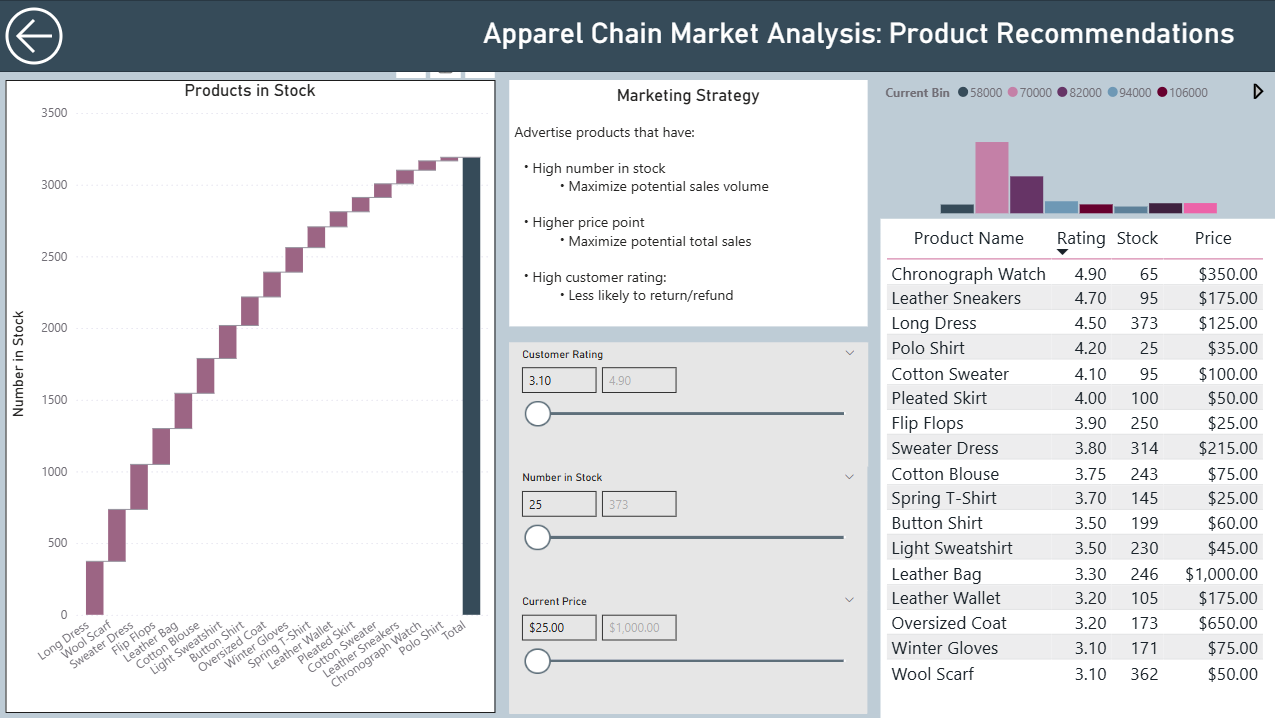

Layout of this report page (visuals, bound fields, positions):
{"tool":"powerbi","page":{"name":"Product Recommendation","canvas":[1280,720],"ordinal":6},"visuals":[{"type":"group","id":"g1","title":"Header","box":[0,0,1280,72],"z":0,"group":"g2"},{"type":"shape","box":[0,0,1280,72],"z":0,"group":"g1"},{"type":"tableEx","fields":{"Values":["Products.Product Name","Products.Customer Rating","Products.Number in Stock","Products.Current Price"]},"box":[883,219,397,501],"z":0},{"type":"slicer","fields":{"Values":["Products.Customer Rating"]},"box":[511,343,358,123.3],"z":0,"group":"g3"},{"type":"actionButton","title":"Back Button","box":[0,0,83,72],"z":1000,"group":"g2"},{"type":"textbox","box":[480,11,800,49],"z":1000,"group":"g1"},{"type":"textbox","title":"Strategy","box":[511,80,358,246],"z":1000},{"type":"slicer","fields":{"Values":["Products.Number in Stock"]},"box":[511,466.6,357.6,123.6],"z":1000,"group":"g3"},{"type":"waterfallChart","title":"Products in Stock","fields":{"Category":["Products.Product Name"],"Y":["Sum(Products.Number in Stock)"]},"box":[8,80,489,633],"z":2000},{"type":"slicer","fields":{"Values":["Products.Current Price"]},"box":[511,590.2,357.6,123.6],"z":2000,"group":"g3"},{"type":"columnChart","title":"Current Bin Selection","fields":{"Y":["Customers.Count of Income"],"Series":["Customers.Income Bins"],"Category":["Customers.Income Bins"]},"box":[883,72,397,147],"z":3000},{"type":"group","id":"g2","title":"Header","box":[0,0,1280,72],"z":4000},{"type":"group","id":"g3","title":"Group 1","box":[511,343,358,370],"z":5000}]}

Visuals, with their boxes in screenshot pixels (x1, y1, x2, y2), scaled from the page's 1280x720 canvas onto the 1275x718 screenshot:
"Header" group: [x1=0, y1=0, x2=1274, y2=72]
shape: [x1=0, y1=0, x2=1274, y2=72]
tableEx - Products.Product Name x Products.Customer Rating: [x1=880, y1=218, x2=1274, y2=717]
slicer - Products.Customer Rating: [x1=509, y1=342, x2=866, y2=465]
"Back Button" actionButton: [x1=0, y1=0, x2=83, y2=72]
textbox: [x1=478, y1=11, x2=1274, y2=60]
"Strategy" textbox: [x1=509, y1=80, x2=866, y2=325]
slicer - Products.Number in Stock: [x1=509, y1=465, x2=865, y2=589]
"Products in Stock" waterfallChart: [x1=8, y1=80, x2=495, y2=711]
slicer - Products.Current Price: [x1=509, y1=589, x2=865, y2=712]
"Current Bin Selection" columnChart: [x1=880, y1=72, x2=1274, y2=218]
"Header" group: [x1=0, y1=0, x2=1274, y2=72]
"Group 1" group: [x1=509, y1=342, x2=866, y2=711]
